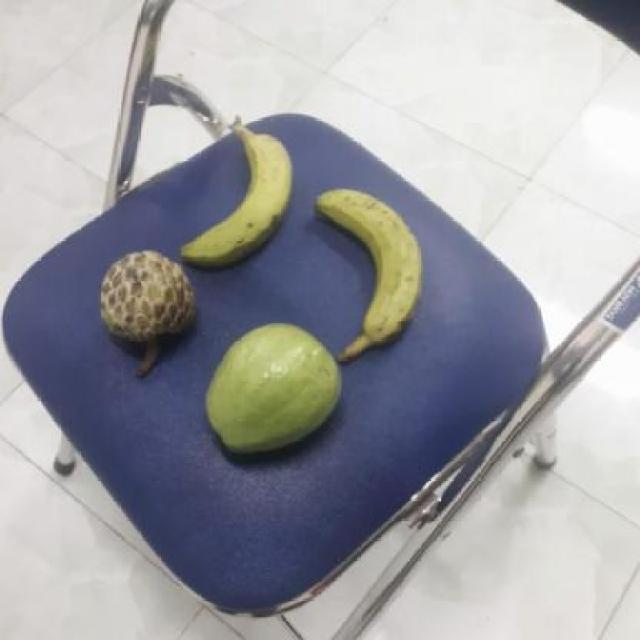banana: (305, 186, 427, 345), (182, 124, 300, 264)
guava: (206, 326, 349, 460)
sugar apple: (99, 250, 199, 368)
